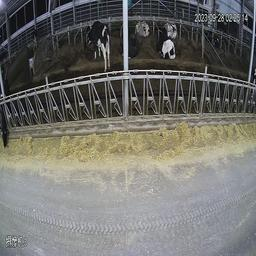cow: (86, 22, 111, 71), (155, 28, 176, 58), (207, 29, 225, 46), (135, 22, 151, 39), (165, 18, 179, 37), (29, 28, 41, 50)
